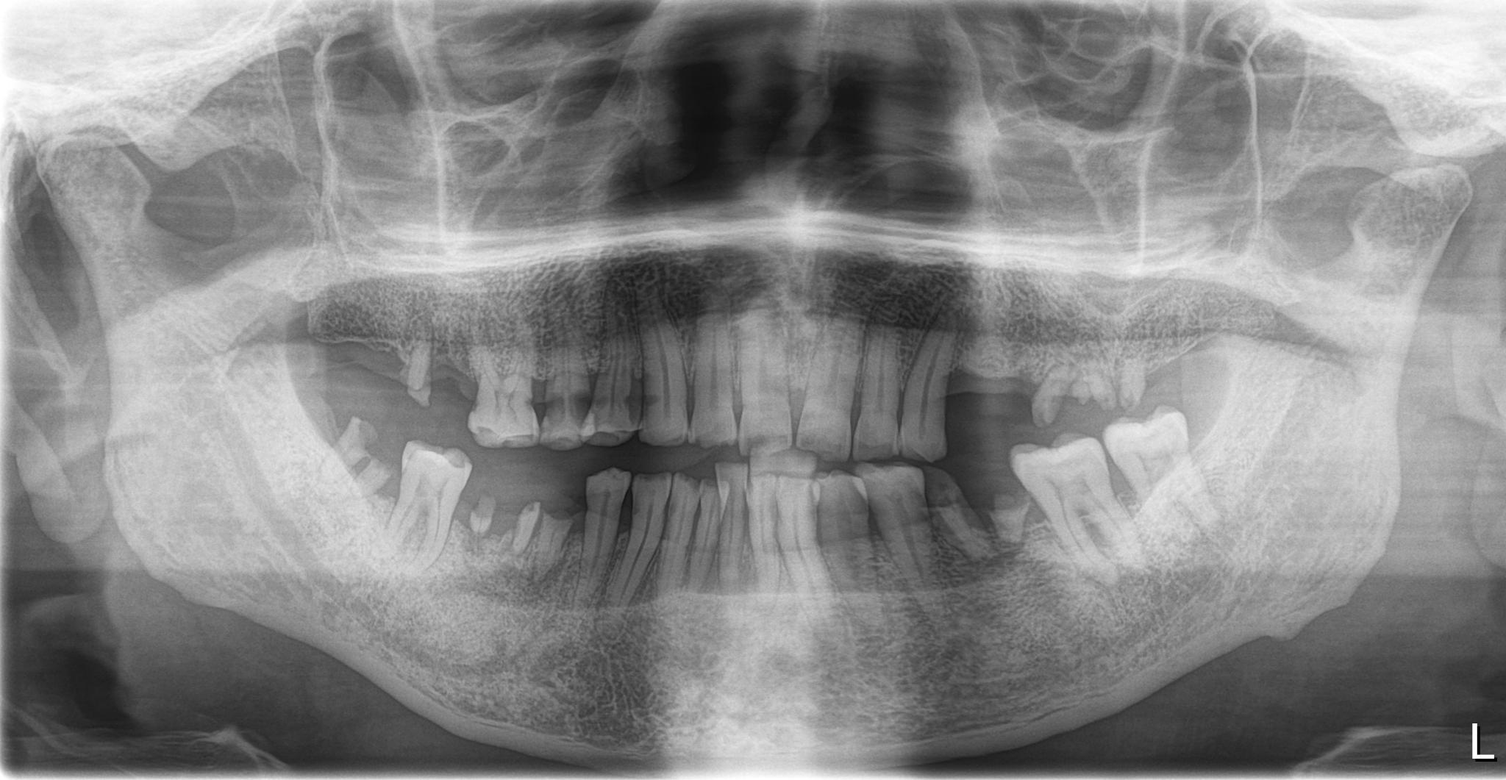Missing Tooth: (960, 334, 1016, 442)
Retained Root: (1024, 351, 1149, 434), (467, 485, 542, 572), (333, 410, 396, 501), (401, 331, 445, 414), (991, 493, 1042, 564), (542, 507, 580, 588)
